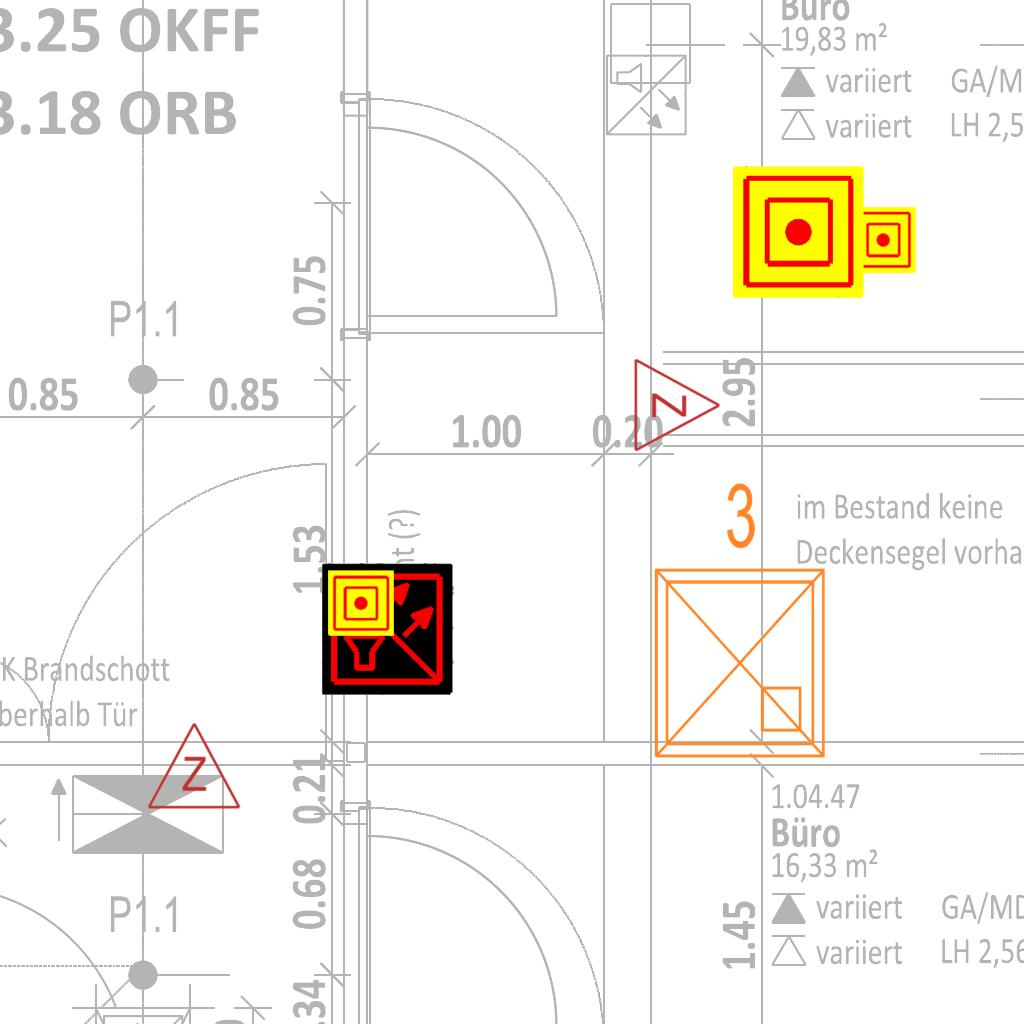Einbaudownlights_LED_Konferenzraeume: (632, 472, 840, 772)
NAM-Nichtautomatischer_Melder: (732, 166, 864, 298), (850, 207, 916, 273), (328, 570, 394, 636)
OKW_Multisensormelder_(Kombination_optischer_Rauch-Kahlenmonoxid_Waerme-Melder): (322, 563, 454, 695)
Zimmersignalleuchte: (144, 716, 242, 816), (627, 355, 727, 453)
